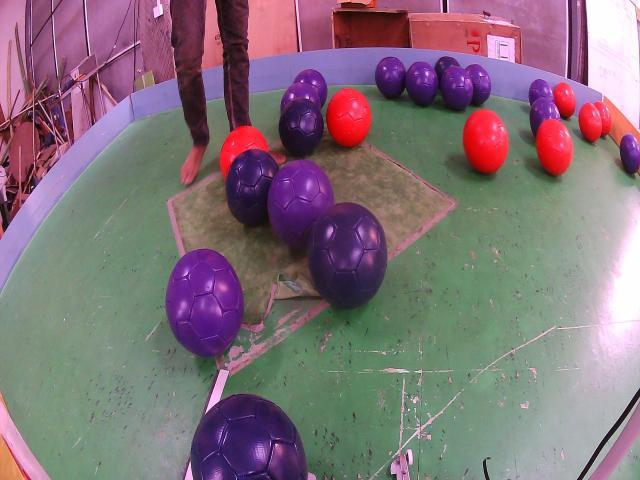jambhalya: (165, 248, 244, 358), (268, 160, 334, 249), (405, 62, 439, 105), (440, 67, 474, 110), (294, 68, 328, 106), (375, 57, 406, 98), (530, 97, 561, 138), (280, 82, 321, 111), (465, 63, 491, 105), (620, 133, 640, 173), (529, 78, 554, 105)
kaalyya: (190, 393, 308, 480), (308, 202, 388, 308), (225, 148, 279, 226), (279, 98, 324, 157), (435, 57, 459, 82)
